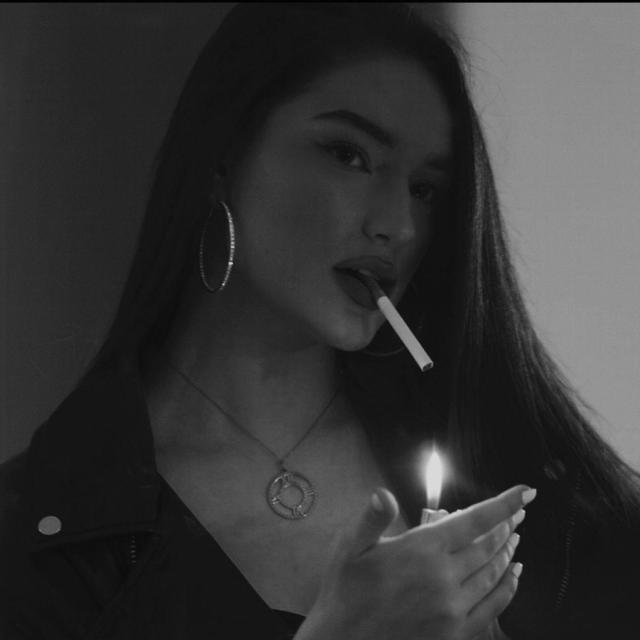cigarette: (352, 265, 449, 388)
